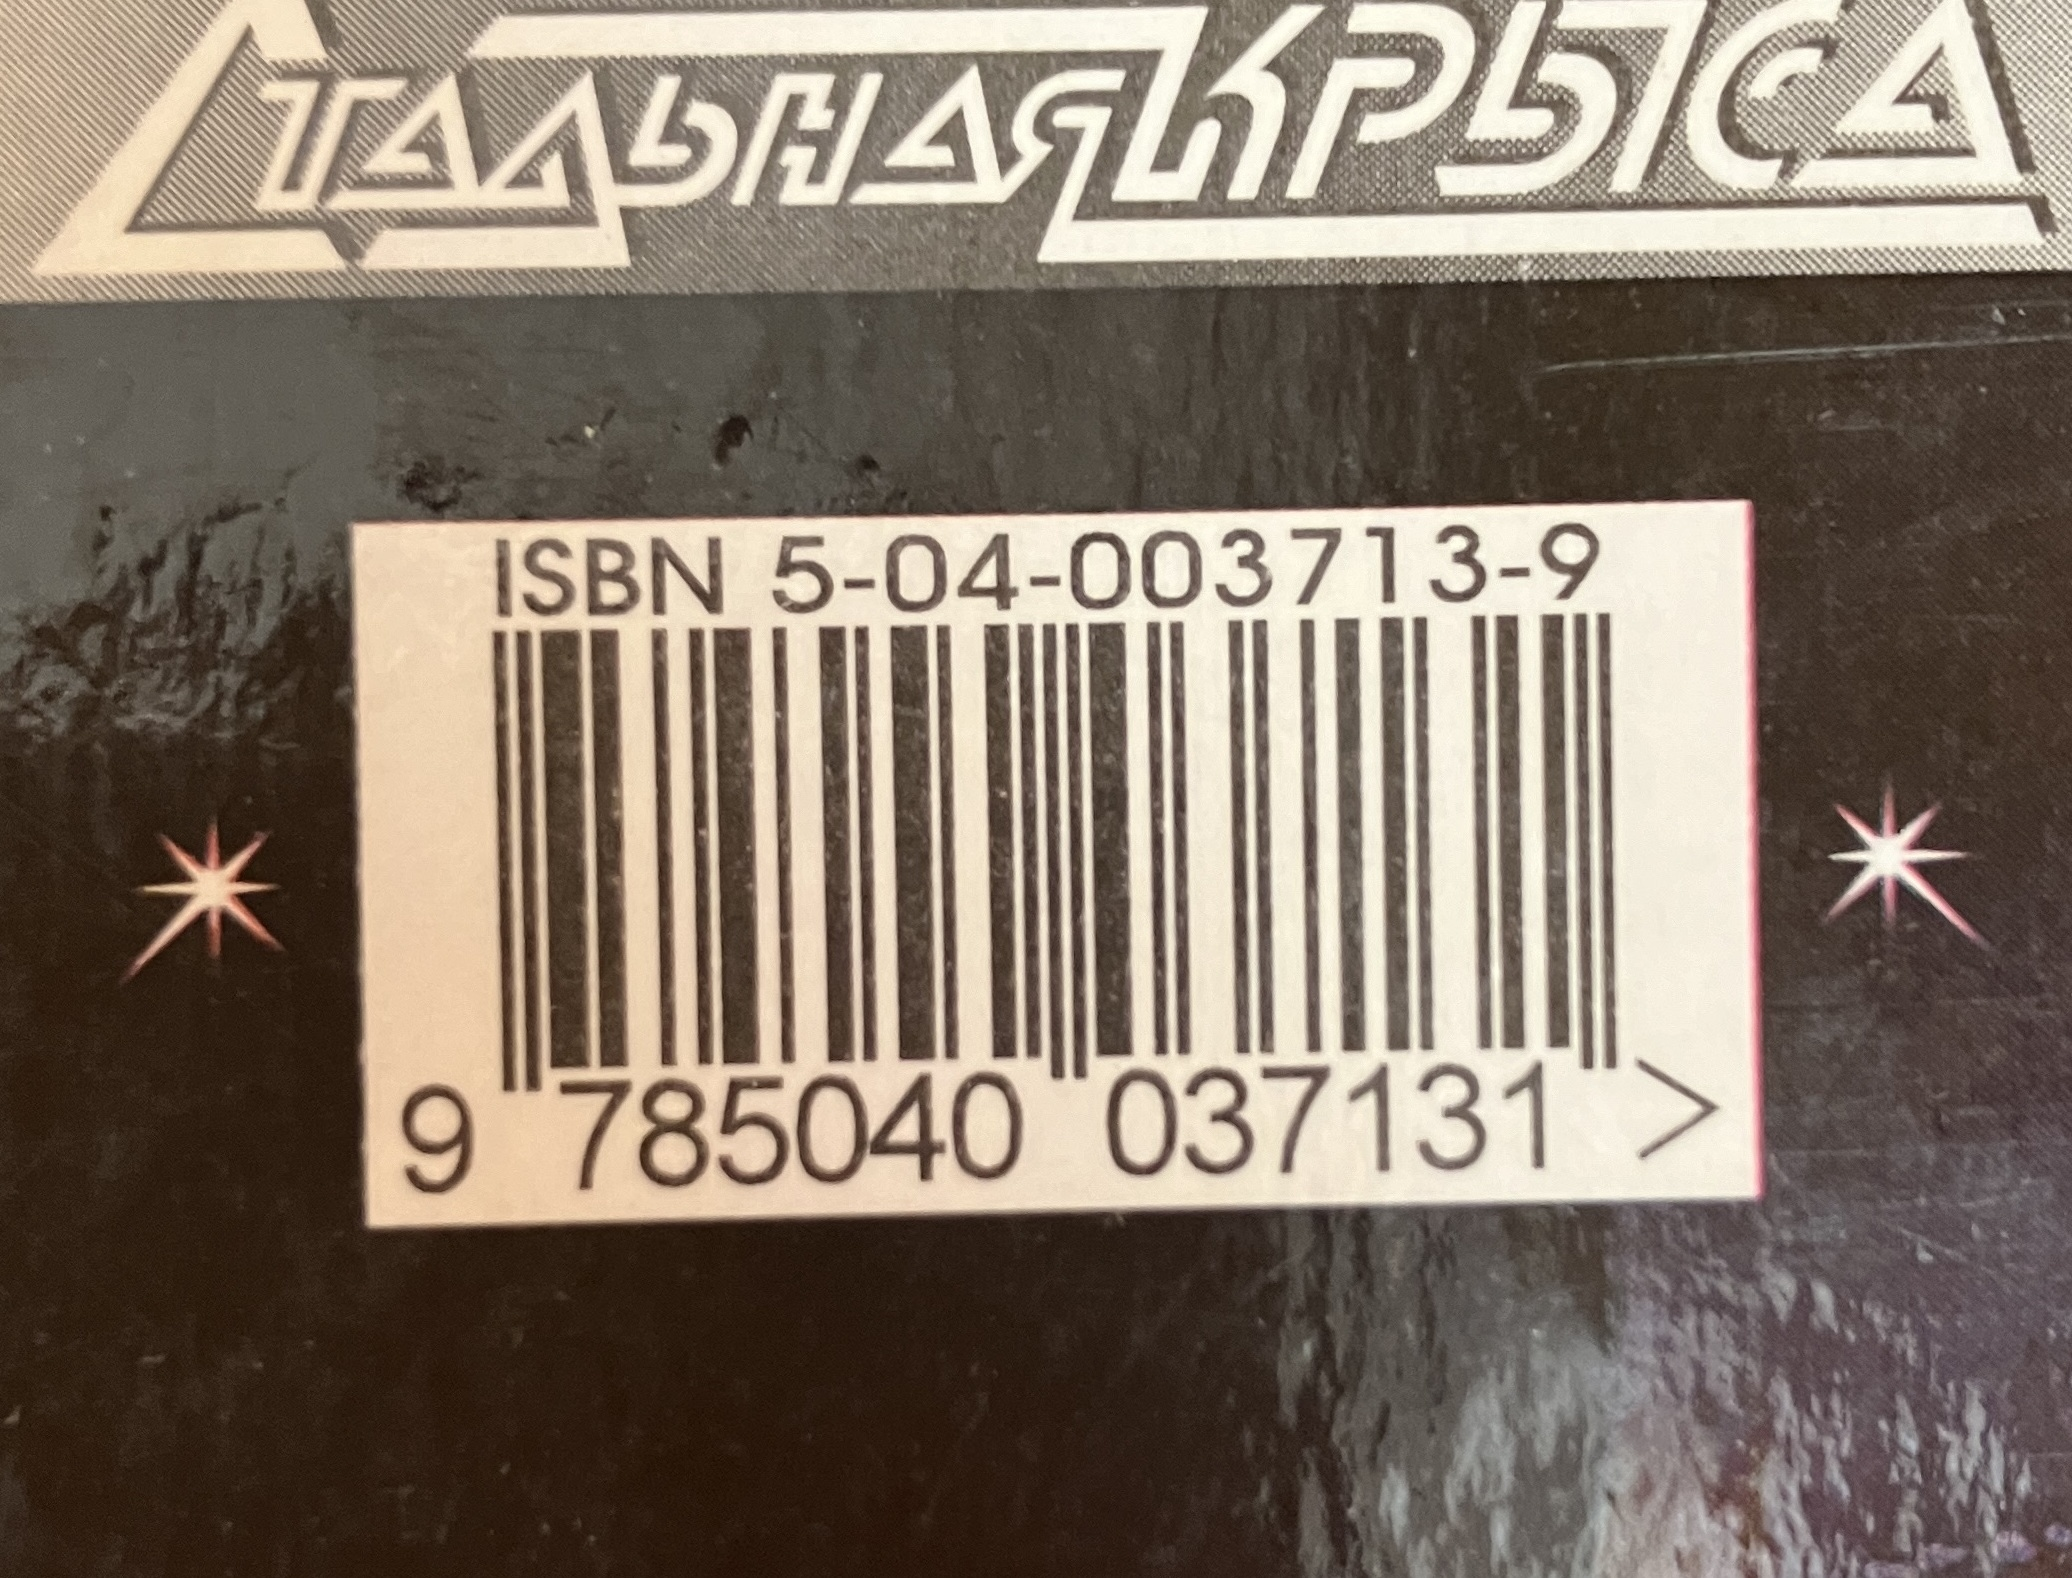1d: (492, 612, 1618, 1089)
